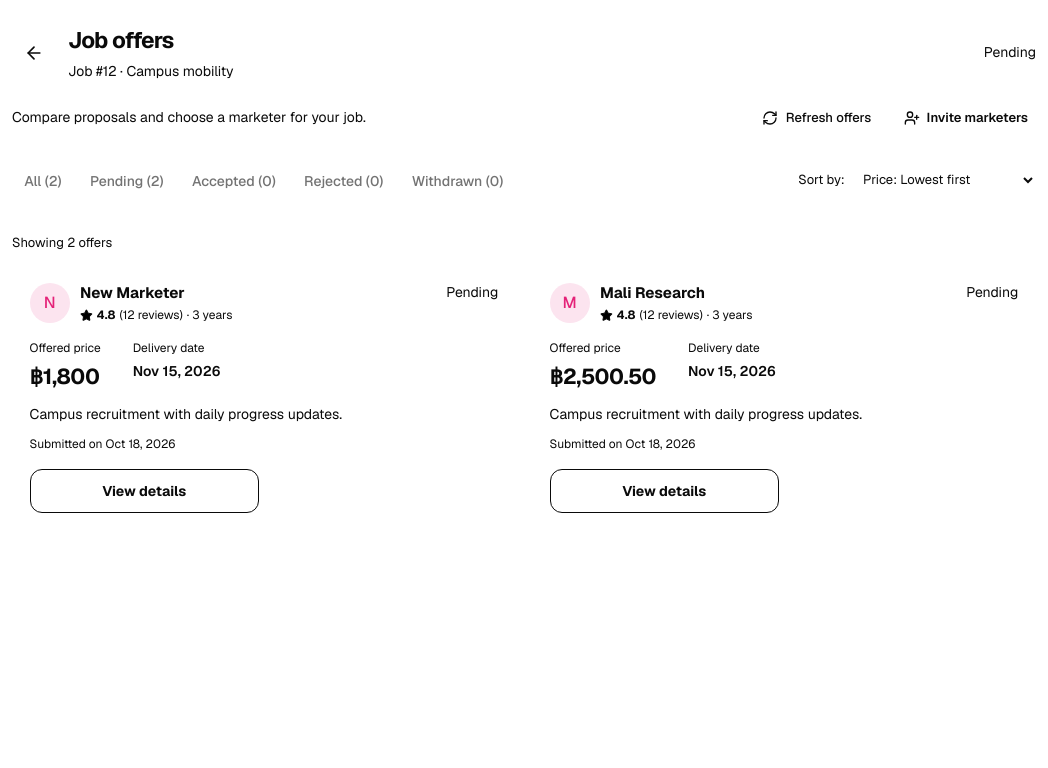
Test: creator hiring workspace › keeps controls unavailable when refreshing also fails
The width and height of the screenshot is (1048, 768).
Click the button "Refresh offers" at (816, 118), box [745,94,888,142]
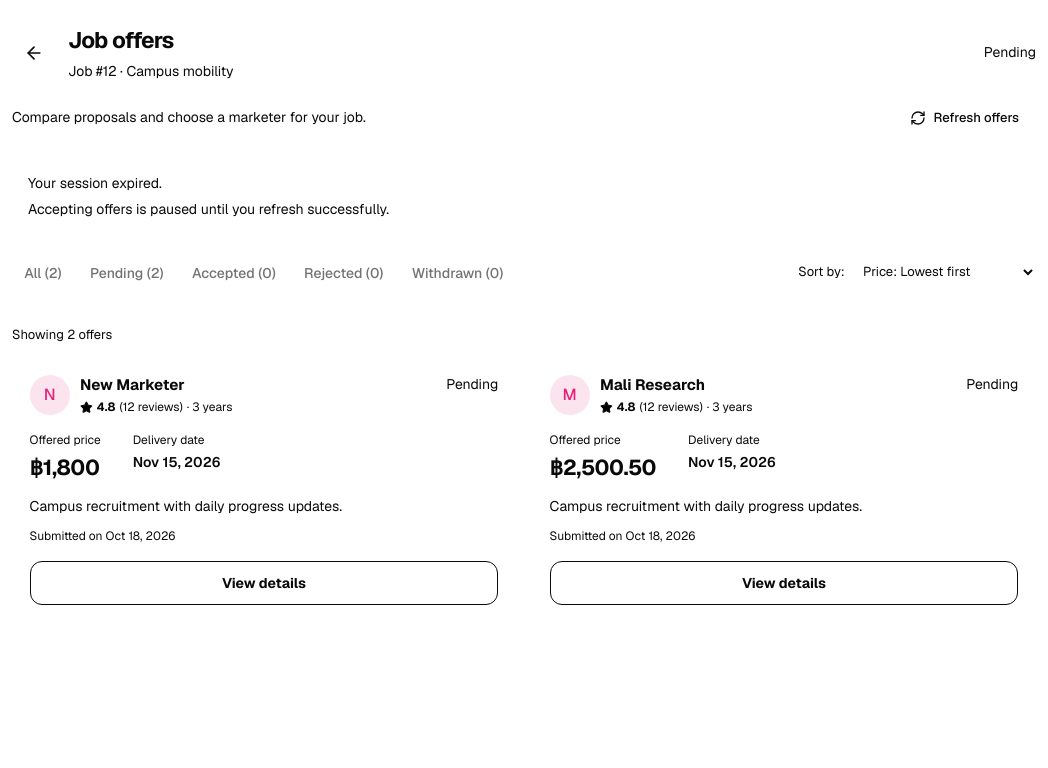
expect the message shows "session expired": met, box [28,174,162,192]
